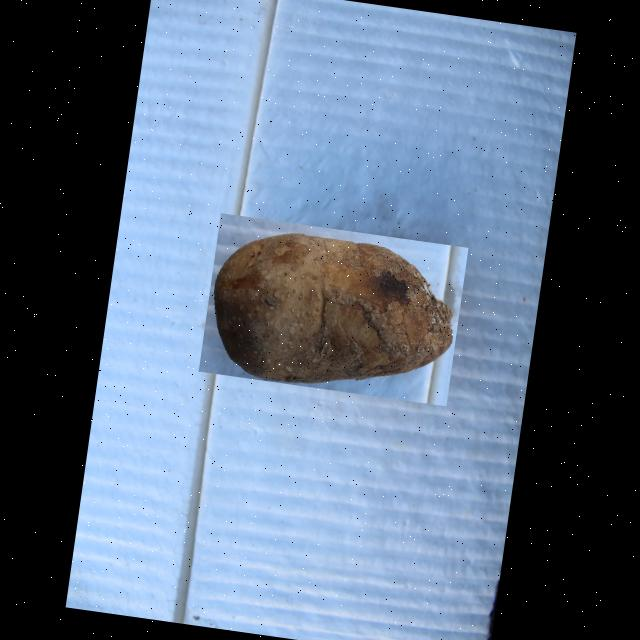Diseased-fungal potato: (198, 213, 468, 406)
